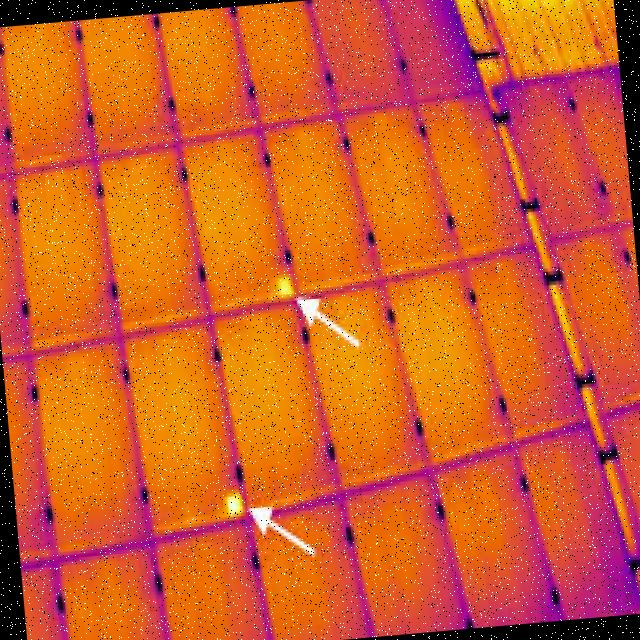Hotspot: (224, 492, 243, 520), (273, 274, 294, 298)
